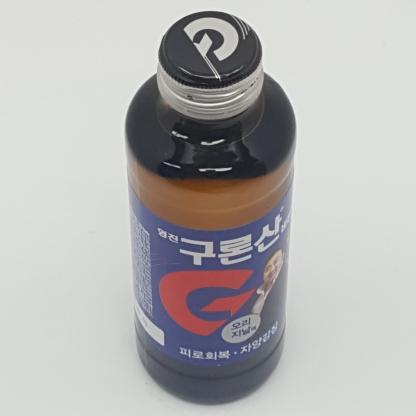---------------150ML: (124, 11, 296, 401)
